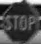Stop: (1, 2, 39, 40)
